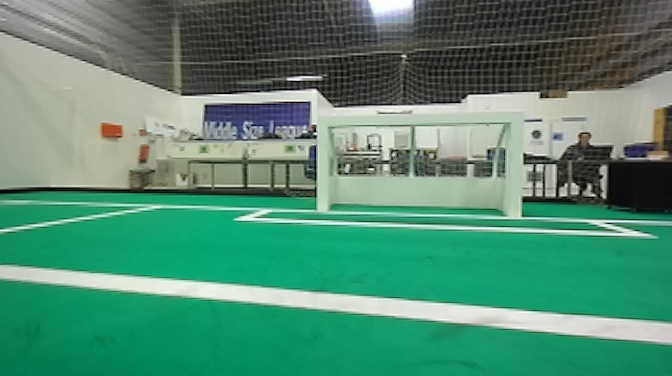goalpost: (503, 113, 523, 220), (313, 111, 332, 214)
